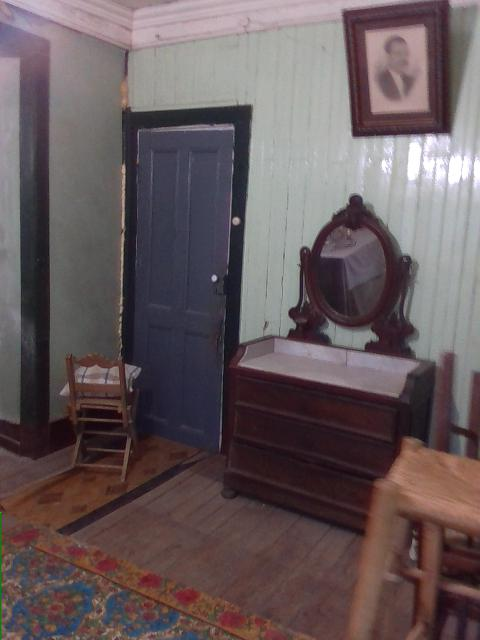door: (122, 103, 250, 455)
